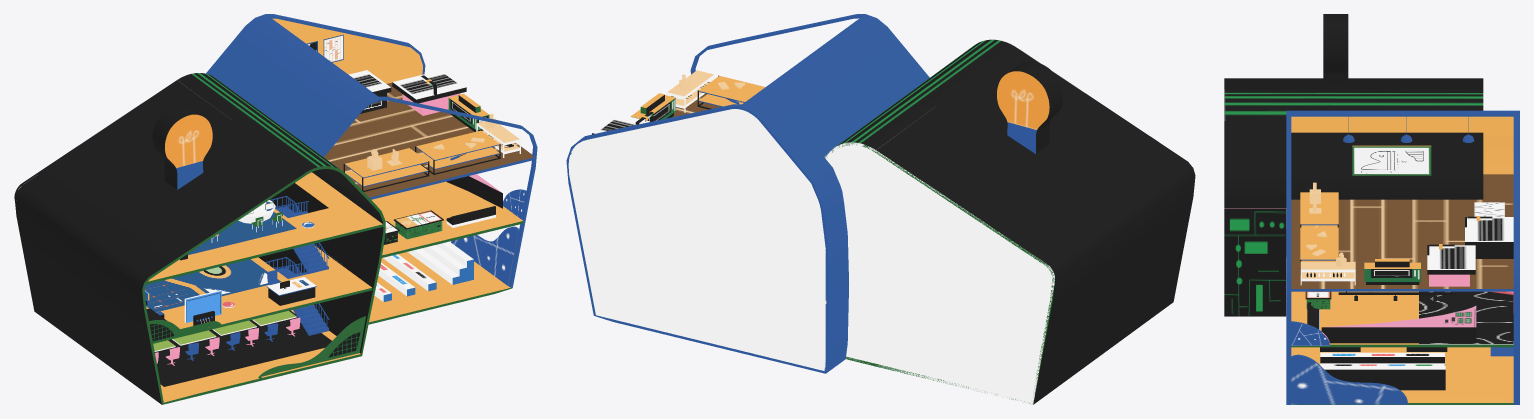
Rendered from 创新空间.fbx.
3 views of the same model, side by side, from view 1: azimuth 30°, elevation 25°; view 2: azimuth 150°, elevation 25°; view 3: azimuth 270°, elevation 25° (orthographic). The views are drawn at different scales.
Visible parts, largest first — view 1: 左, 右, 地毯_2, 房顶大灯泡, 平面, 桌子_1_2, 挤压_1_4, 桌子_2_2, 立方体_4, 立方体_1, 地毯, stairs2_2 (+14 smaller); view 2: 左, 右, 房顶大灯泡, 桌子_1_2, 右侧桌子, 右侧机械, 立方体_1; view 3: 左, 右, 右侧操作台, 挤压_1_4, 平面_1_2, 黑板, 立方体_4, 房顶大灯泡, 立方体_3_2, 立方体_1, 立方体_2, 右侧机械 (+10 smaller).
Boxes of the visible parts, <box> form: 左: <box>14,73,385,404</box>; 右: <box>206,14,537,324</box>; 地毯_2: <box>154,310,331,386</box>; 房顶大灯泡: <box>152,105,212,189</box>; 平面: <box>144,259,280,312</box>; 桌子_1_2: <box>415,130,500,174</box>; 挤压_1_4: <box>451,226,519,285</box>; 桌子_2_2: <box>343,147,429,191</box>; 立方体_4: <box>407,241,473,284</box>; 立方体_1: <box>392,70,466,103</box>; 地毯: <box>187,211,296,254</box>; stairs2_2: <box>265,257,329,335</box>; 左: <box>824,39,1195,404</box>; 右: <box>566,14,929,373</box>; 房顶大灯泡: <box>997,61,1063,153</box>; 桌子_1_2: <box>697,75,765,109</box>; 右侧桌子: <box>666,70,715,112</box>; 右侧机械: <box>631,93,675,121</box>; 立方体_1: <box>592,111,653,134</box>; 左: <box>1224,78,1483,316</box>; 右: <box>1286,110,1519,404</box>; 右侧操作台: <box>1321,306,1476,343</box>; 挤压_1_4: <box>1291,354,1407,404</box>; 平面_1_2: <box>1419,291,1513,344</box>; 黑板: <box>1352,145,1431,175</box>; 立方体_4: <box>1321,366,1445,390</box>; 房顶大灯泡: <box>1323,14,1348,85</box>; 立方体_3_2: <box>1320,352,1444,363</box>; 立方体_1: <box>1427,244,1475,274</box>; 立方体_2: <box>1465,216,1513,246</box>; 右侧机械: <box>1364,259,1420,284</box>.
Bounding box in the file's own units: 2563 × 1354 × 1521.
